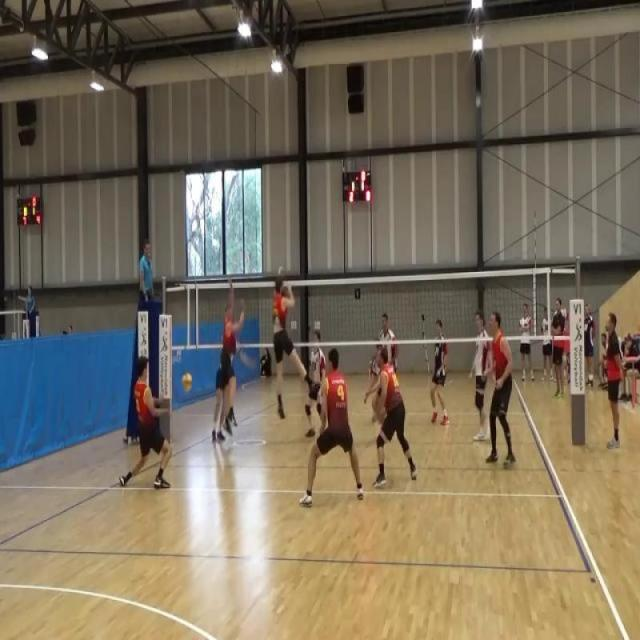volleyball: (180, 371, 193, 393)
